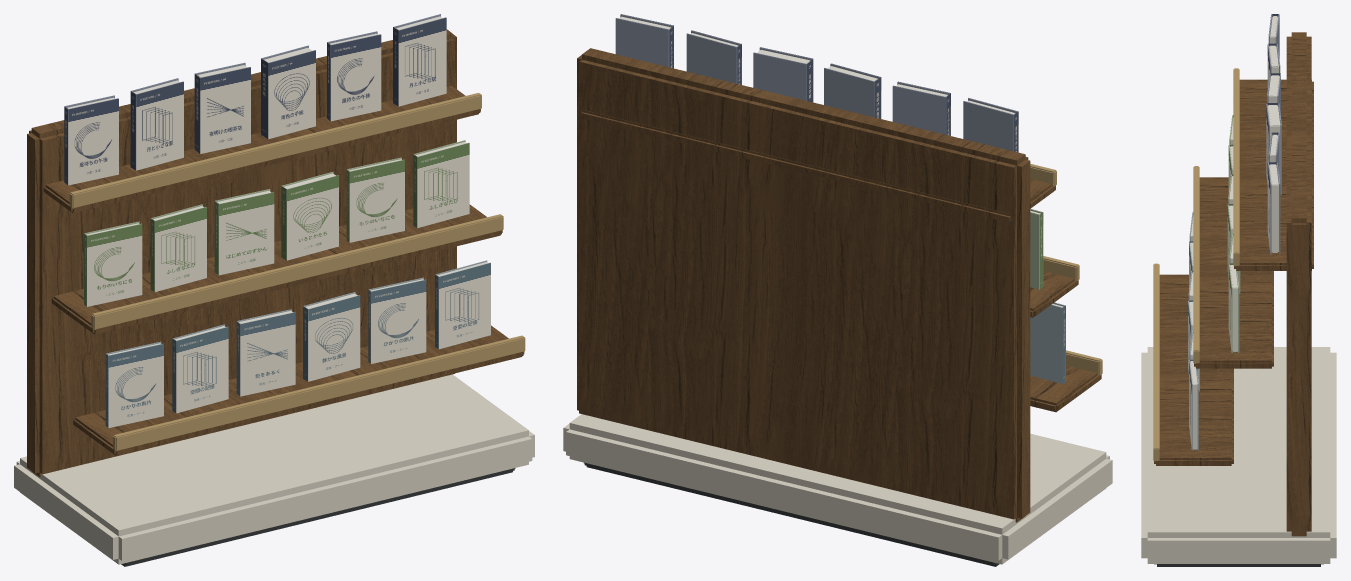
The model's file is collection_v29_book_1.glb.
3 renders of one model, left to right at view 1: azimuth 30°, elevation 25°; view 2: azimuth 150°, elevation 25°; view 3: azimuth 270°, elevation 25°, orthographic. The views are drawn at different scales.
Parts seen in each view (by area): view 1: collection_v29_book_1_CC0_Oak_veneer, collection_v29_book_1_V29_ivory_lacquer, collection_v29_book_1_Satin_champagne, collection_v29_book_1_V24_book_cover_5_2, collection_v29_book_1_V24_book_cover_5_0, collection_v29_book_1_V24_book_cover_5_0.001, collection_v29_book_1_V24_book_cover_4_0, collection_v29_book_1_V24_book_cover_4_2, collection_v29_book_1_V24_book_cover_4_0.001, collection_v29_book_1_V24_book_cover_3_2, collection_v29_book_1_V24_book_cover_3_0, collection_v29_book_1_V24_book_cover_3_0.001 (+10 smaller); view 2: collection_v29_book_1_CC0_Oak_veneer, collection_v29_book_1_V29_ivory_lacquer, collection_v29_book_1_Printed_binding_5_0, collection_v29_book_1_Printed_binding_3_1, collection_v29_book_1_Printed_binding_3_1.001, collection_v29_book_1_Printed_binding_3_3, collection_v29_book_1_Printed_binding_3_0.001, collection_v29_book_1_Printed_binding_3_0, collection_v29_book_1_Printed_binding_3_2, collection_v29_book_1_Anodised_graphite, collection_v29_book_1_Satin_champagne, collection_v29_book_1_Printed_binding_4_0; view 3: collection_v29_book_1_CC0_Oak_veneer, collection_v29_book_1_V29_ivory_lacquer, collection_v29_book_1_Satin_champagne, collection_v29_book_1_Paper_page_edges.024, collection_v29_book_1_Paper_page_edges.036, collection_v29_book_1_Paper_page_edges.030, collection_v29_book_1_Anodised_graphite, collection_v29_book_1_Paper_page_edges.022, collection_v29_book_1_Printed_binding_3_1.001, collection_v29_book_1_Printed_binding_4_1.001, collection_v29_book_1_V24_book_cover_3_1.001, collection_v29_book_1_Printed_binding_3_3 (+3 smaller).
Boxes of the visible parts, left/top/right/bottom form: collection_v29_book_1_CC0_Oak_veneer: left=27, top=29, right=524, bottom=477; collection_v29_book_1_V29_ivory_lacquer: left=14, top=374, right=534, bottom=564; collection_v29_book_1_Satin_champagne: left=69, top=93, right=525, bottom=451; collection_v29_book_1_V24_book_cover_5_2: left=240, top=312, right=295, bottom=396; collection_v29_book_1_V24_book_cover_5_0: left=108, top=344, right=163, bottom=427; collection_v29_book_1_V24_book_cover_5_0.001: left=371, top=280, right=426, bottom=363; collection_v29_book_1_V24_book_cover_4_0: left=87, top=224, right=142, bottom=306; collection_v29_book_1_V24_book_cover_4_2: left=219, top=192, right=274, bottom=275; collection_v29_book_1_V24_book_cover_4_0.001: left=349, top=160, right=404, bottom=242; collection_v29_book_1_V24_book_cover_3_2: left=200, top=67, right=250, bottom=153; collection_v29_book_1_V24_book_cover_3_0: left=68, top=98, right=118, bottom=185; collection_v29_book_1_V24_book_cover_3_0.001: left=331, top=34, right=381, bottom=121; collection_v29_book_1_CC0_Oak_veneer: left=577, top=48, right=1101, bottom=522; collection_v29_book_1_V29_ivory_lacquer: left=563, top=414, right=1112, bottom=564; collection_v29_book_1_Printed_binding_5_0: left=1030, top=302, right=1065, bottom=383; collection_v29_book_1_Printed_binding_3_1: left=892, top=82, right=950, bottom=134; collection_v29_book_1_Printed_binding_3_1.001: left=615, top=14, right=673, bottom=66; collection_v29_book_1_Printed_binding_3_3: left=753, top=47, right=812, bottom=100; collection_v29_book_1_Printed_binding_3_0.001: left=686, top=30, right=741, bottom=83; collection_v29_book_1_Printed_binding_3_0: left=963, top=98, right=1017, bottom=151; collection_v29_book_1_Printed_binding_3_2: left=824, top=63, right=880, bottom=117; collection_v29_book_1_Anodised_graphite: left=584, top=462, right=999, bottom=566; collection_v29_book_1_Satin_champagne: left=1030, top=163, right=1102, bottom=375; collection_v29_book_1_Printed_binding_4_0: left=1030, top=209, right=1042, bottom=289; collection_v29_book_1_CC0_Oak_veneer: left=1154, top=32, right=1313, bottom=536; collection_v29_book_1_V29_ivory_lacquer: left=1141, top=347, right=1336, bottom=563; collection_v29_book_1_Satin_champagne: left=1153, top=68, right=1239, bottom=461; collection_v29_book_1_Paper_page_edges.024: left=1269, top=164, right=1278, bottom=252; collection_v29_book_1_Paper_page_edges.036: left=1190, top=361, right=1197, bottom=449; collection_v29_book_1_Paper_page_edges.030: left=1230, top=265, right=1237, bottom=351; collection_v29_book_1_Anodised_graphite: left=1154, top=564, right=1323, bottom=566; collection_v29_book_1_Paper_page_edges.022: left=1267, top=105, right=1280, bottom=182; collection_v29_book_1_Printed_binding_3_1.001: left=1268, top=162, right=1280, bottom=254; collection_v29_book_1_Printed_binding_4_1.001: left=1229, top=263, right=1239, bottom=353; collection_v29_book_1_V24_book_cover_3_1.001: left=1267, top=163, right=1270, bottom=252; collection_v29_book_1_Printed_binding_3_3: left=1266, top=103, right=1281, bottom=195.
Size of the model in its own units: 1.8 by 1.67 by 0.78.
Materials: 76 (37 with a texture image).
